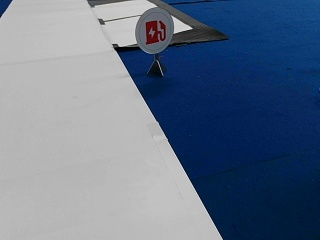battery: (134, 6, 173, 54)
